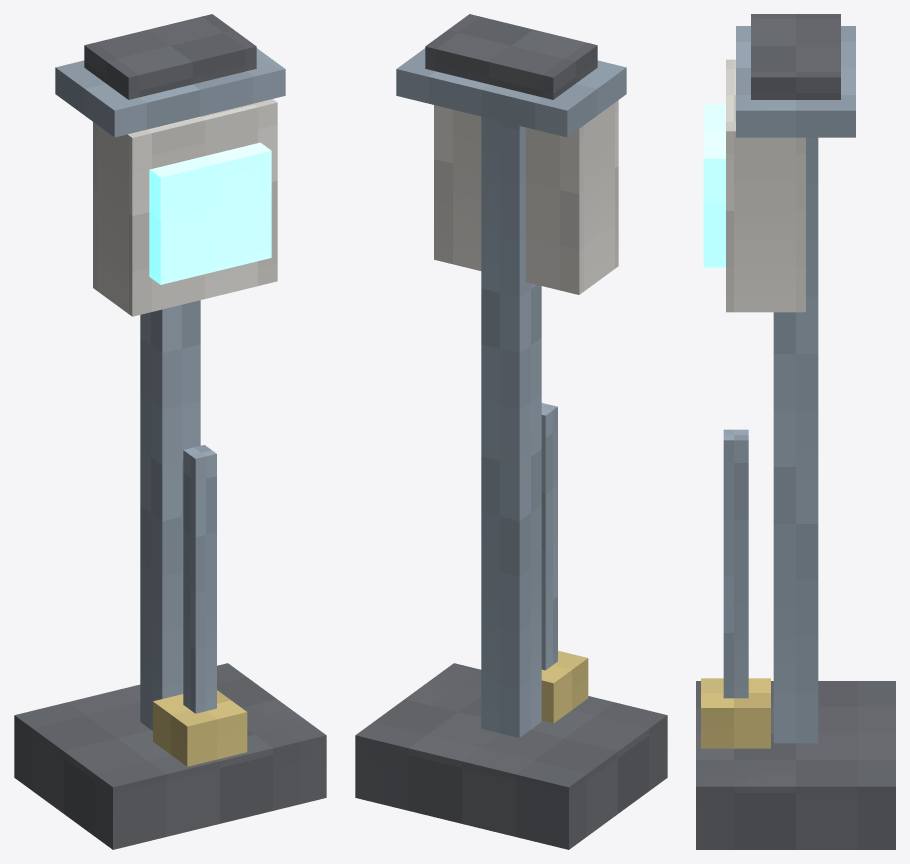
The model's file is pixel-modern-farm-soil-sensor-post-b08cbf37__29156.glb.
The picture shows the model from 3 angles, left to right: view 1: azimuth 30°, elevation 25°; view 2: azimuth 150°, elevation 25°; view 3: azimuth 270°, elevation 25°; orthographic projection.
Visible parts, largest first — view 1: soil-sensor-post; view 2: soil-sensor-post; view 3: soil-sensor-post.
Part boxes in pixels (x1,y1,x2,y2): soil-sensor-post: [14, 14, 326, 849]; soil-sensor-post: [355, 14, 667, 849]; soil-sensor-post: [696, 14, 895, 849].
Size of the model in its own units: 0.5 by 1.66 by 0.4.
Materials: 5 (5 with a texture image).
